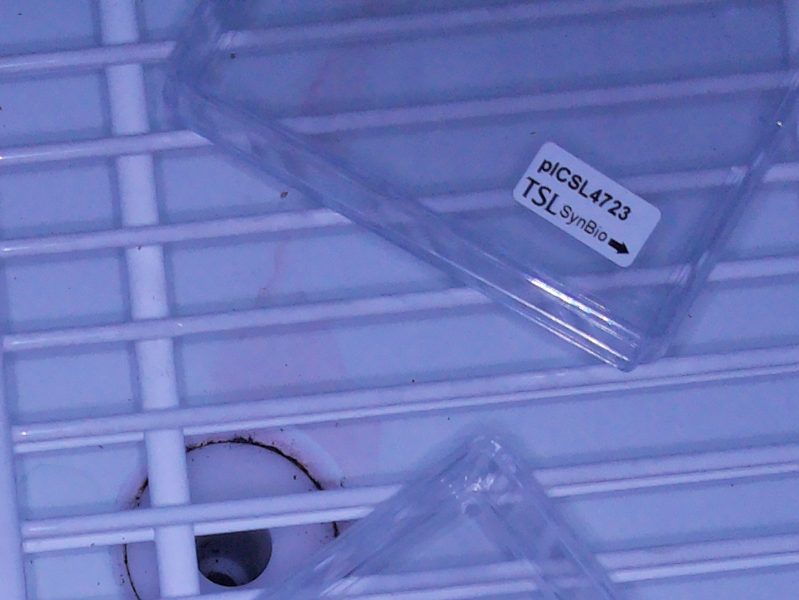plate: (161, 1, 799, 373), (257, 431, 620, 600)
